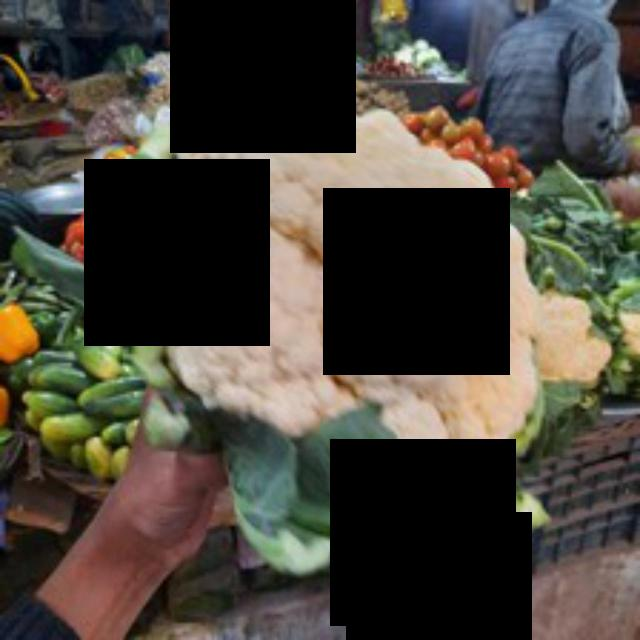cauliflower: (135, 89, 549, 552)
